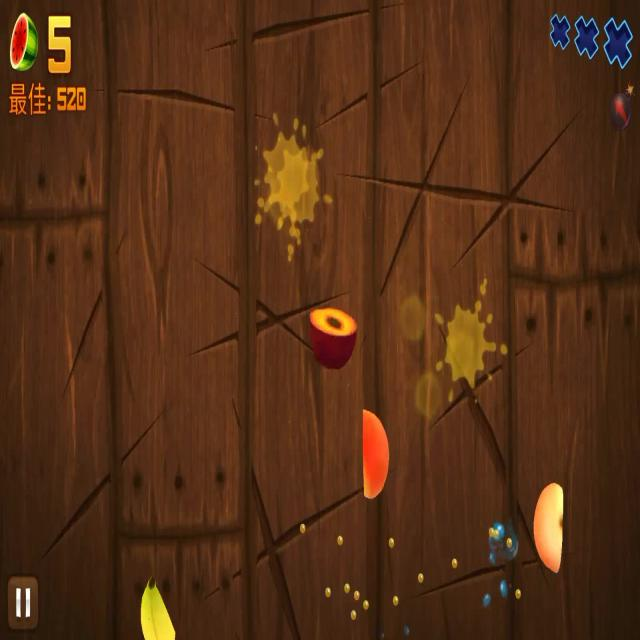fruit: (525, 476, 563, 580), (306, 301, 361, 370), (359, 396, 389, 501), (130, 578, 179, 640)
